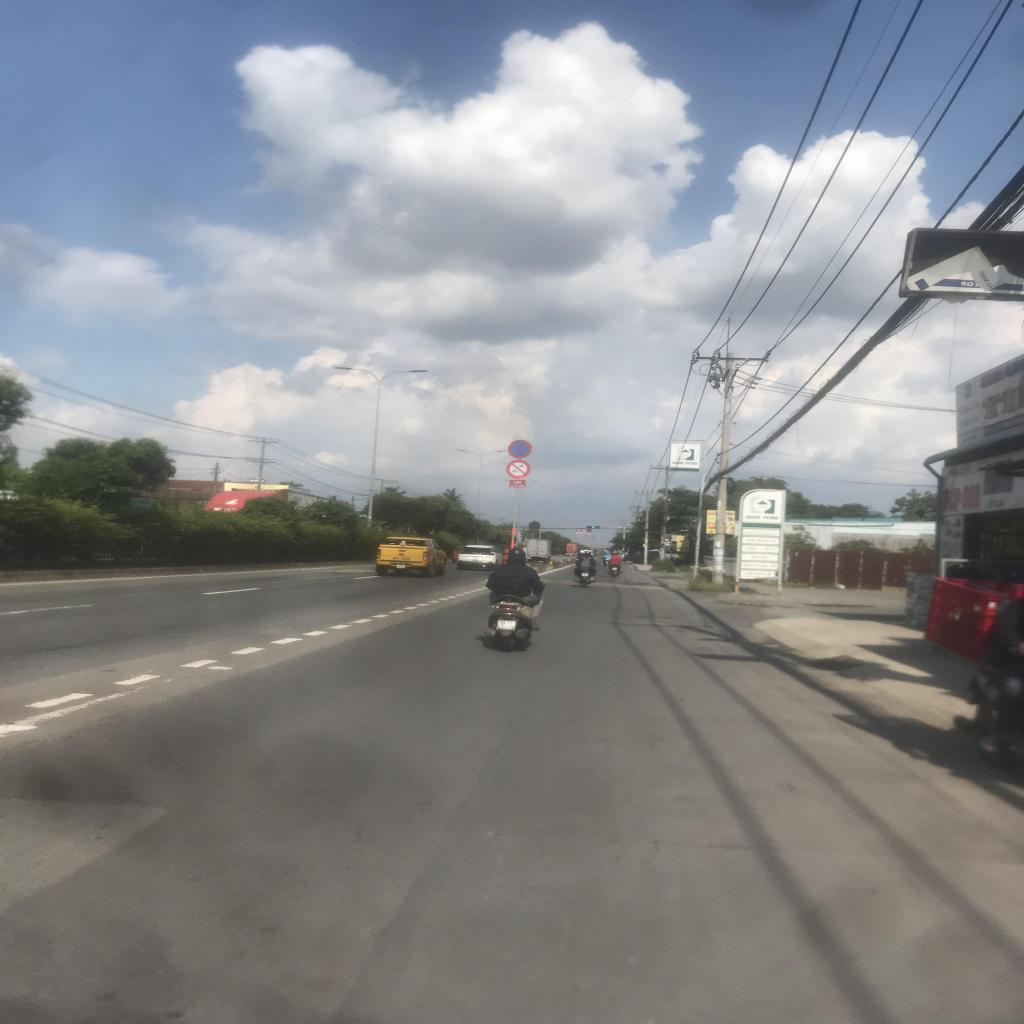cam_dung_xe_va_do_xe: (506, 440, 534, 459)
cam_xe_2_banh_va_xe_3_banh_co_dong_co: (505, 460, 532, 480)
